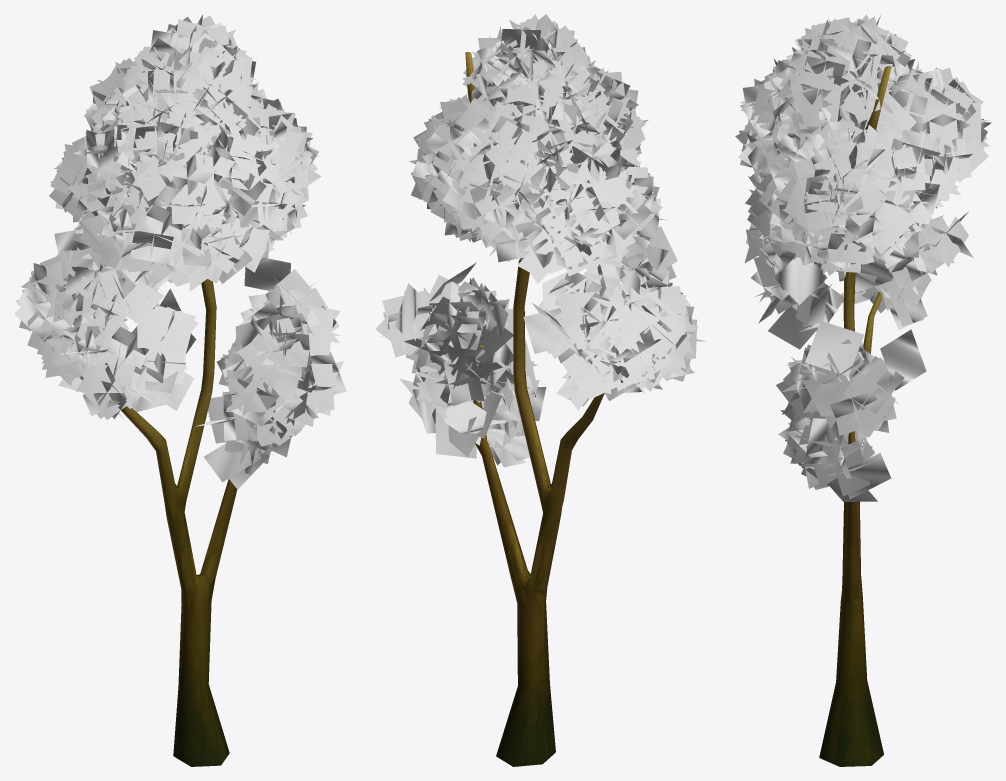
File: 6_Arbol_LOD0.fbx
The picture shows the model from 3 angles, left to right: view 1: azimuth 30°, elevation 25°; view 2: azimuth 150°, elevation 25°; view 3: azimuth 270°, elevation 25°; orthographic projection.
Parts seen in each view (by area): view 1: 6_Arbol_LOD0; view 2: 6_Arbol_LOD0; view 3: 6_Arbol_LOD0.
Boxes of the visible parts, box(x1,y1,x2,y2) form: 6_Arbol_LOD0: box(14, 15, 346, 766); 6_Arbol_LOD0: box(375, 14, 706, 766); 6_Arbol_LOD0: box(735, 14, 991, 766).
Size of the model in its own units: 754 by 1713 by 541.
